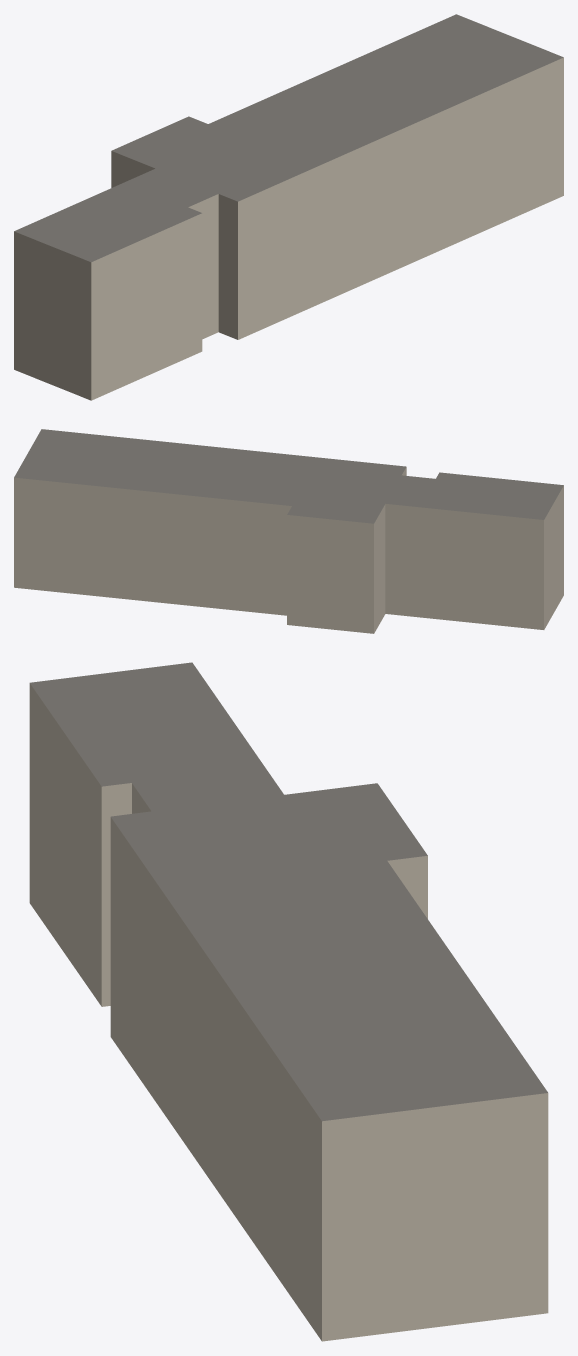
The picture shows the model from 3 angles, top to bottom: view 1: azimuth 30°, elevation 25°; view 2: azimuth 150°, elevation 25°; view 3: azimuth 270°, elevation 25°; orthographic projection. The views are drawn at different scales.
Parts seen in each view (by area): view 1: HP-w299010049; view 2: HP-w299010049; view 3: HP-w299010049.
Part boxes in pixels (x1,y1,x2,y2): HP-w299010049: [14, 14, 563, 400]; HP-w299010049: [14, 429, 563, 633]; HP-w299010049: [29, 662, 548, 1341].
Size of the model in its own units: 80.4 by 18 by 38.42.
